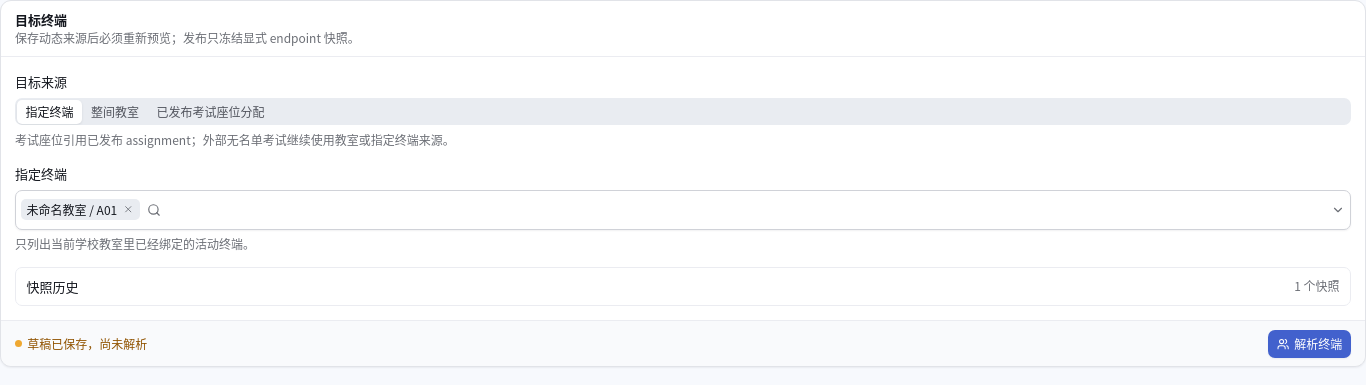
Test: exam event target step › 切换目标来源时清掉尚未发布的解析结果
Click the button "解析终端" at (1310, 344), box [1268,330,1351,358]
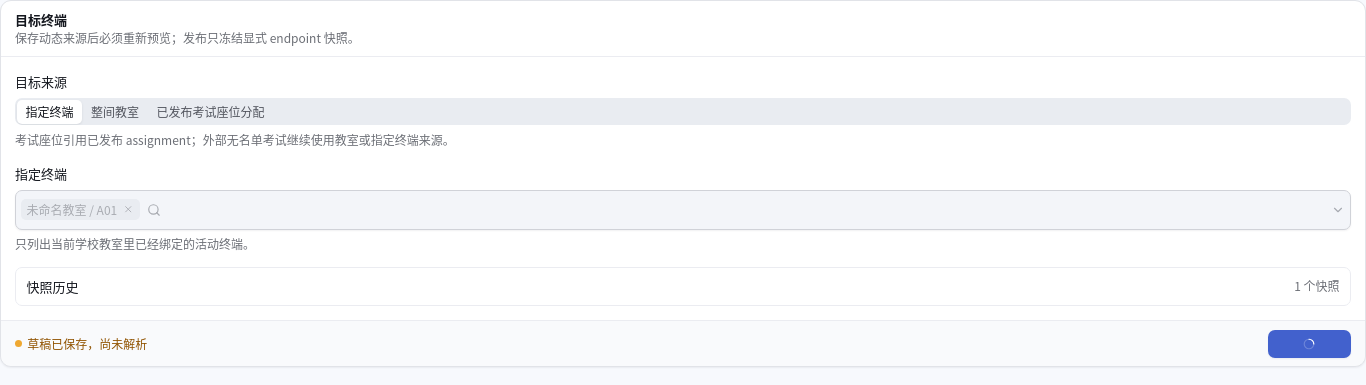
Click the tab "整间教室" at (115, 112), box [82,100,148,124]
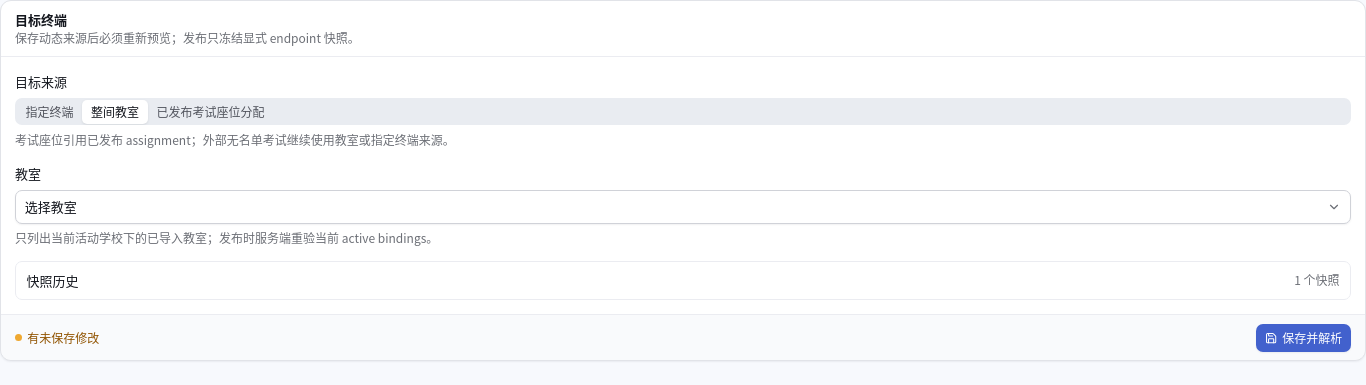
Expected: the button "保存并解析" is enabled, [1256,324,1351,352]
